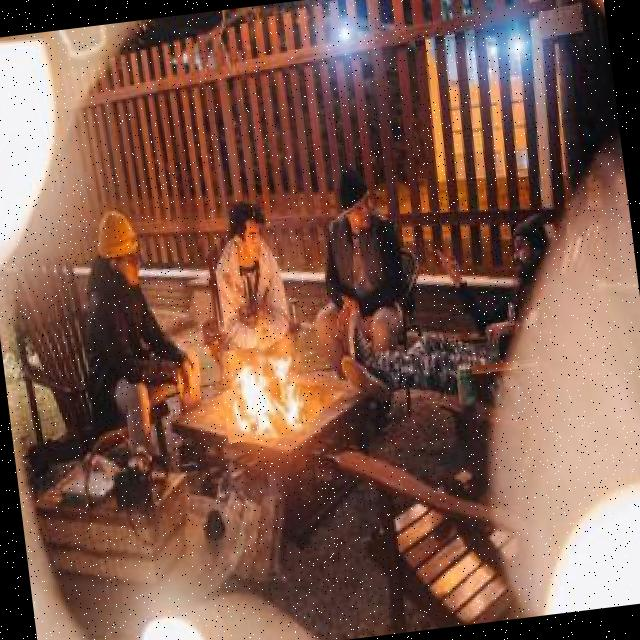fire: (217, 341, 321, 444)
